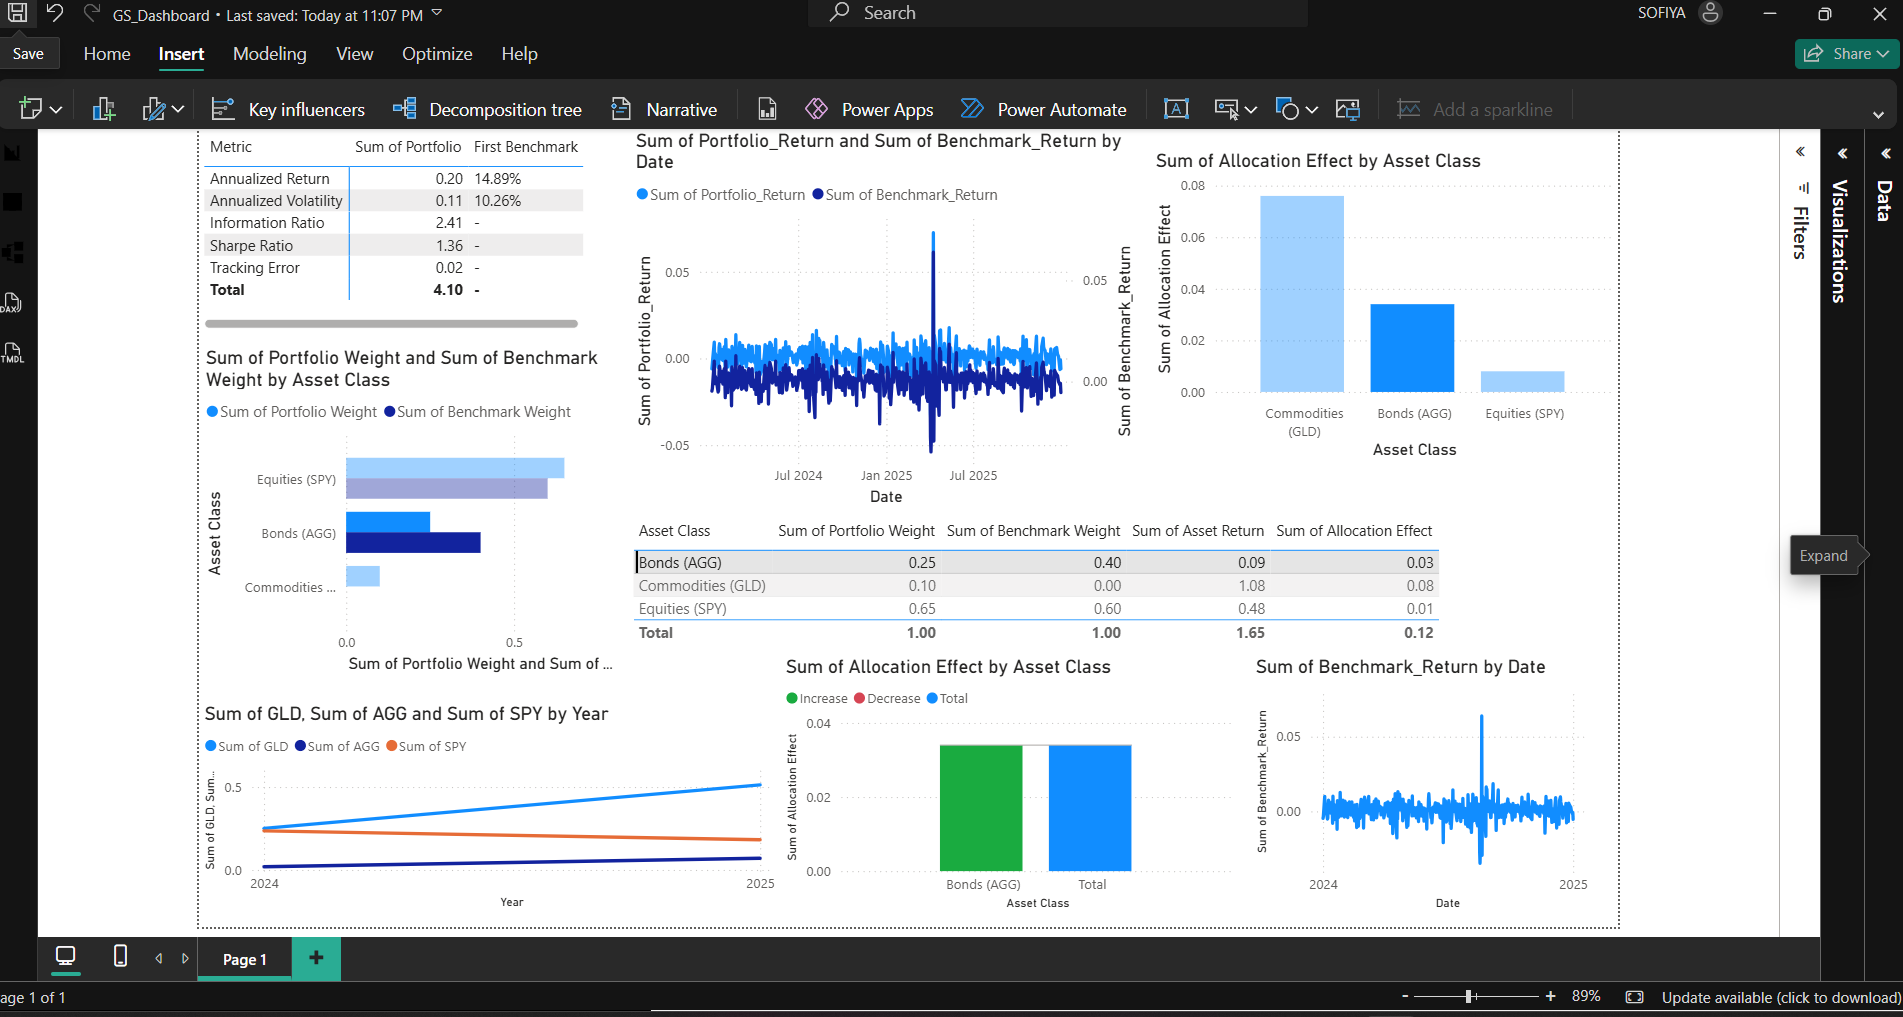

The page's visual inventory and layout, read from the dashboard file:
{"tool":"powerbi","page":{"name":"Page 1","canvas":[1280,720],"ordinal":0},"visuals":[{"type":"lineChart","fields":{"Y":["Sum(fact_daily_returns.Portfolio_Return)"],"Y2":["Sum(fact_daily_returns.Benchmark_Return)"],"Category":["fact_daily_returns.Date"]},"box":[388.3,0,458.3,344.4],"z":1},{"type":"clusteredColumnChart","fields":{"Category":["fact_attribution.Asset Class"],"Y":["Sum(fact_attribution.Allocation Effect)"]},"box":[857.6,17.8,422.6,284],"z":2},{"type":"pivotTable","fields":{"Rows":["fact_kpi_metrics.Metric"],"Values":["Sum(fact_kpi_metrics.Portfolio)","Min(fact_kpi_metrics.Benchmark)"]},"box":[0,0,351.3,185.2],"z":3},{"type":"clusteredBarChart","fields":{"Category":["fact_attribution.Asset Class"],"Y":["Sum(fact_attribution.Portfolio Weight)","Sum(fact_attribution.Benchmark Weight)"]},"box":[1.4,196.2,387,299.1],"z":4},{"type":"tableEx","fields":{"Values":["fact_attribution.Asset Class","Sum(fact_attribution.Portfolio Weight)","Sum(fact_attribution.Benchmark Weight)","Sum(fact_attribution.Asset Return)","Sum(fact_attribution.Allocation Effect)"]},"box":[385.6,345.8,738.3,129],"z":5},{"type":"lineChart","fields":{"Y":["Sum(fact_daily_returns.GLD)","Sum(fact_daily_returns.AGG)","Sum(fact_daily_returns.SPY)"],"Category":["fact_daily_returns.Date.Variation.Date Hierarchy.Year","fact_daily_returns.Date.Variation.Date Hierarchy.Quarter","fact_daily_returns.Date.Variation.Date Hierarchy.Month","fact_daily_returns.Date.Variation.Date Hierarchy.Day"]},"box":[0,517.3,524.2,190.7],"z":6},{"type":"textbox","box":[1108.2,495,172.5,150.1],"z":8},{"type":"textbox","box":[1251.9,491.8,28.7,3.2],"z":9},{"type":"waterfallChart","fields":{"Category":["fact_attribution.Asset Class"],"Y":["Sum(fact_attribution.Allocation Effect)"]},"box":[524.2,474.8,414.4,234.6],"z":10},{"type":"stackedAreaChart","fields":{"Category":["fact_daily_returns.Date"],"Y":["Sum(fact_daily_returns.Benchmark_Return)"]},"box":[948.2,474.8,318.4,234.6],"z":11}]}

Visuals, with their boxes on the page's 1280x720 design canvas (x1, y1, x2, y2). These are canvas units, not pixel positions in the 1903x1017 screenshot, which may show the page scaled, cropped or inside an application window:
lineChart - Sum(fact_daily_returns.Portfolio_Return) x Sum(fact_daily_returns.Benchmark_Return): (x1=388, y1=0, x2=847, y2=344)
clusteredColumnChart - fact_attribution.Asset Class x Sum(fact_attribution.Allocation Effect): (x1=858, y1=18, x2=1280, y2=302)
pivotTable - fact_kpi_metrics.Metric x Sum(fact_kpi_metrics.Portfolio): (x1=0, y1=0, x2=351, y2=185)
clusteredBarChart - fact_attribution.Asset Class x Sum(fact_attribution.Portfolio Weight): (x1=1, y1=196, x2=388, y2=495)
tableEx - fact_attribution.Asset Class x Sum(fact_attribution.Portfolio Weight): (x1=386, y1=346, x2=1124, y2=475)
lineChart - Sum(fact_daily_returns.GLD) x Sum(fact_daily_returns.AGG): (x1=0, y1=517, x2=524, y2=708)
textbox: (x1=1108, y1=495, x2=1281, y2=645)
textbox: (x1=1252, y1=492, x2=1281, y2=495)
waterfallChart - fact_attribution.Asset Class x Sum(fact_attribution.Allocation Effect): (x1=524, y1=475, x2=939, y2=709)
stackedAreaChart - fact_daily_returns.Date x Sum(fact_daily_returns.Benchmark_Return): (x1=948, y1=475, x2=1267, y2=709)
